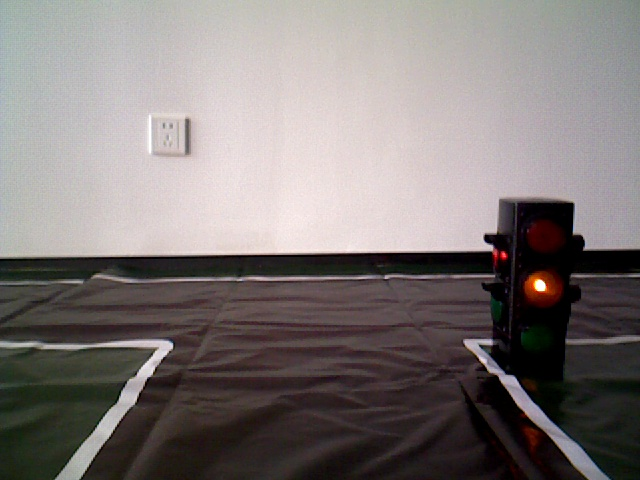yellow: (497, 199, 568, 343)
